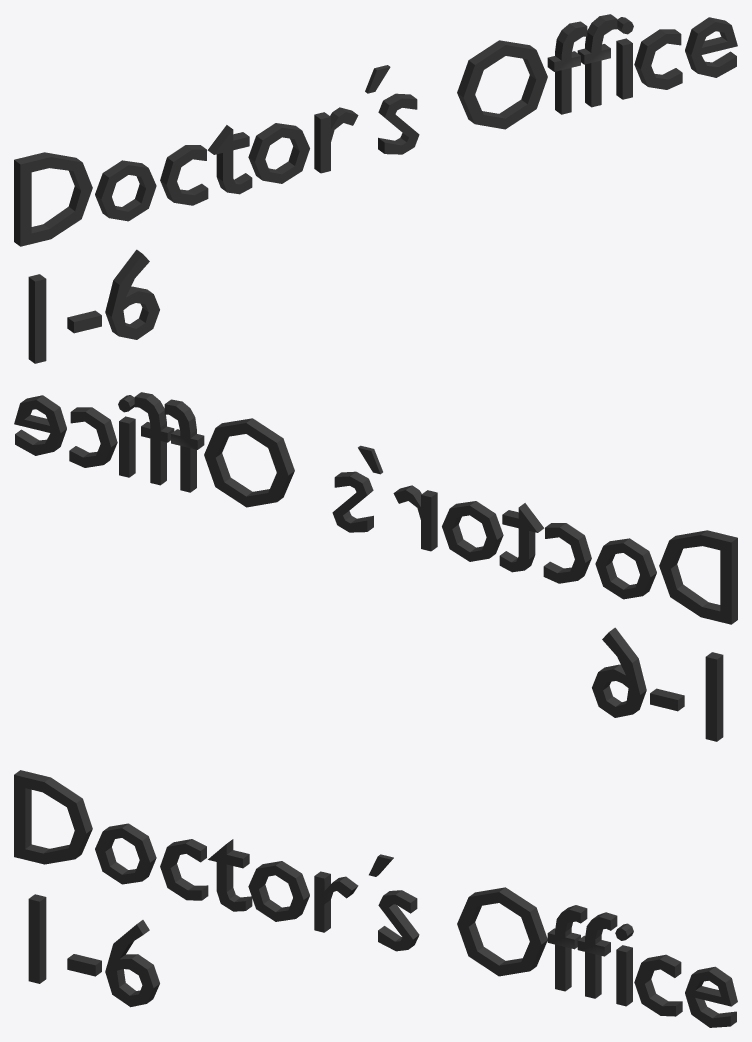
The model's file is H_Text_Office.fbx.
3 views of the same model, one above another, from view 1: azimuth 30°, elevation 25°; view 2: azimuth 150°, elevation 25°; view 3: azimuth 330°, elevation 25° (orthographic).
Visible parts, largest first — view 1: H_Text_Office; view 2: H_Text_Office; view 3: H_Text_Office.
Part boxes in pixels (x1,y1,x2,y2): H_Text_Office: [14, 14, 737, 363]; H_Text_Office: [14, 392, 737, 741]; H_Text_Office: [14, 770, 737, 1027].
Bounding box in the file's own units: 926 × 14.52 × 256.
